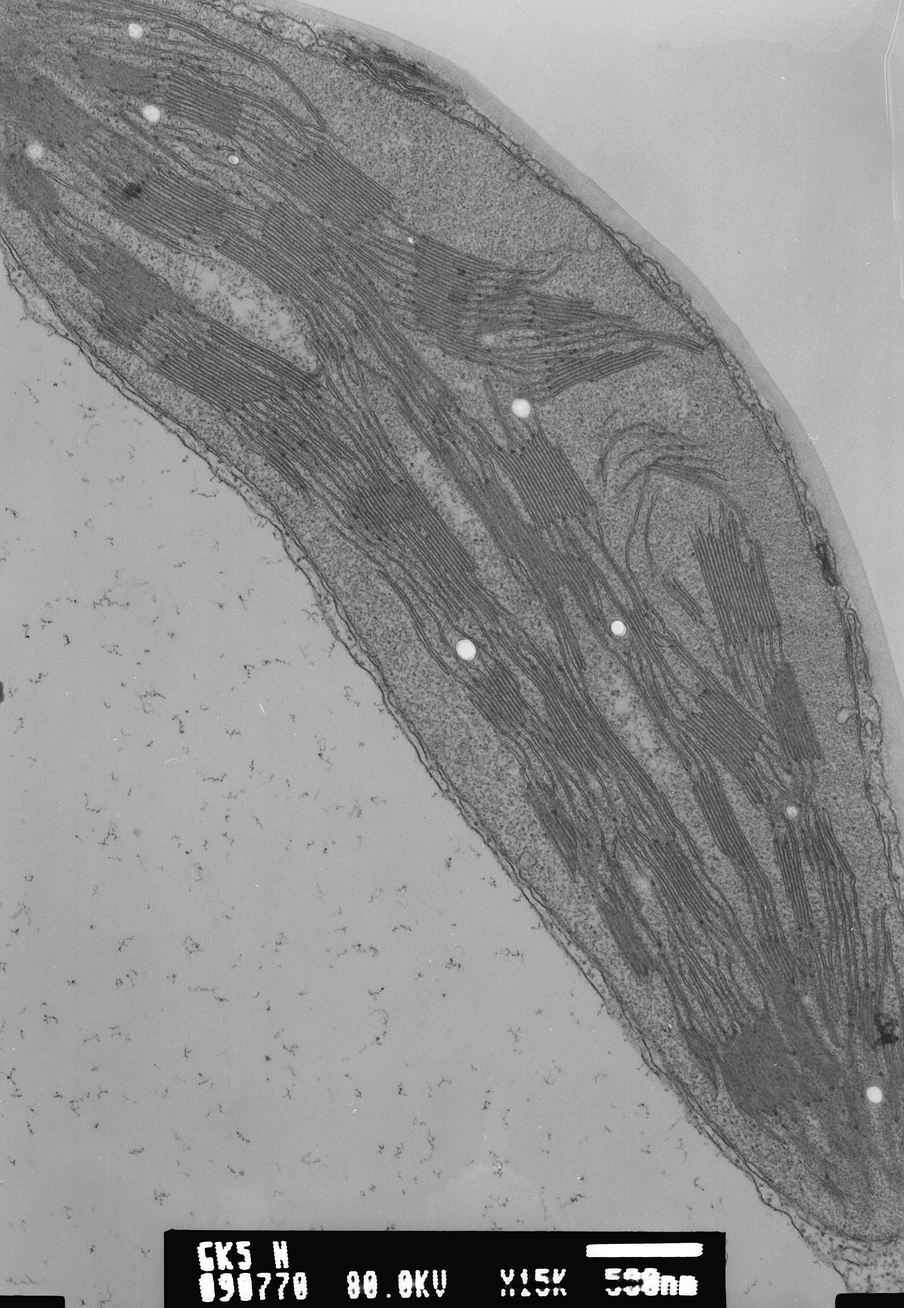granum: (474, 474, 606, 679), (41, 233, 197, 356), (668, 637, 769, 812), (470, 419, 598, 531), (403, 230, 506, 367), (99, 158, 242, 255), (715, 1002, 827, 1119), (687, 518, 784, 652), (271, 140, 398, 236), (354, 309, 442, 430), (690, 769, 774, 895), (151, 341, 288, 416), (436, 440, 518, 562), (0, 60, 104, 156), (763, 972, 844, 1092), (201, 317, 323, 396), (213, 227, 333, 307), (523, 665, 613, 761), (422, 520, 501, 626), (252, 200, 337, 298), (845, 989, 904, 1127), (380, 317, 460, 416), (344, 468, 446, 543), (543, 340, 665, 400), (763, 661, 827, 766), (521, 783, 584, 878), (528, 696, 603, 775), (159, 70, 243, 140), (645, 837, 713, 921), (594, 896, 656, 985), (620, 600, 680, 688), (465, 658, 531, 737), (323, 225, 403, 289), (0, 142, 67, 214), (598, 722, 659, 800), (72, 47, 161, 97), (774, 843, 817, 934), (523, 289, 599, 331), (646, 456, 724, 496), (393, 393, 437, 458), (603, 852, 647, 914), (74, 0, 184, 23), (757, 934, 804, 987), (658, 576, 706, 627), (650, 864, 690, 924), (341, 268, 386, 320), (206, 30, 264, 69), (634, 327, 708, 357), (680, 1024, 717, 1084), (632, 677, 674, 729), (721, 919, 762, 970), (263, 447, 310, 491), (262, 94, 309, 138), (311, 426, 360, 466), (478, 272, 527, 309), (494, 615, 534, 660), (302, 327, 341, 370), (264, 431, 303, 464), (521, 639, 552, 672), (477, 315, 516, 337), (813, 836, 837, 867), (812, 806, 835, 837), (408, 615, 426, 637)
